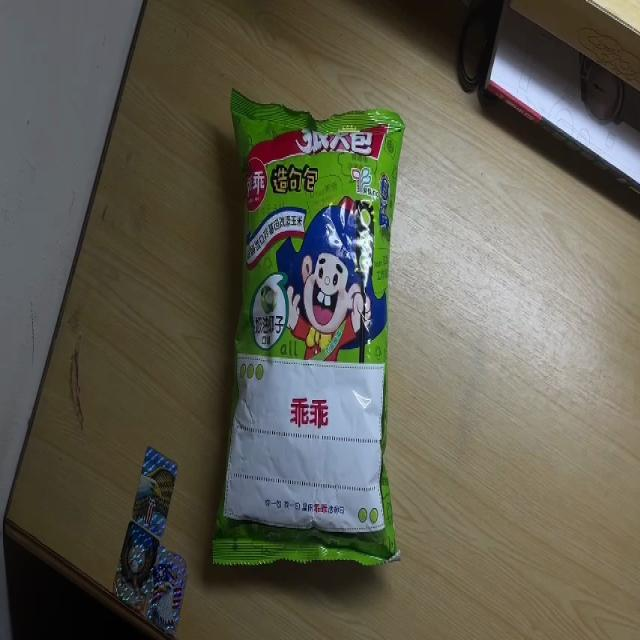Good-Luck: (210, 82, 408, 568)
